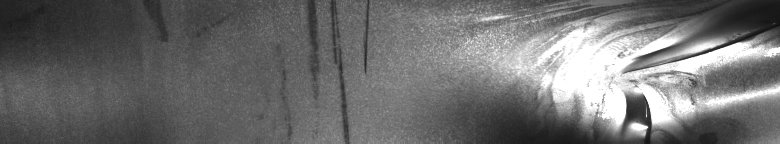ke: (476, 5, 776, 136)
